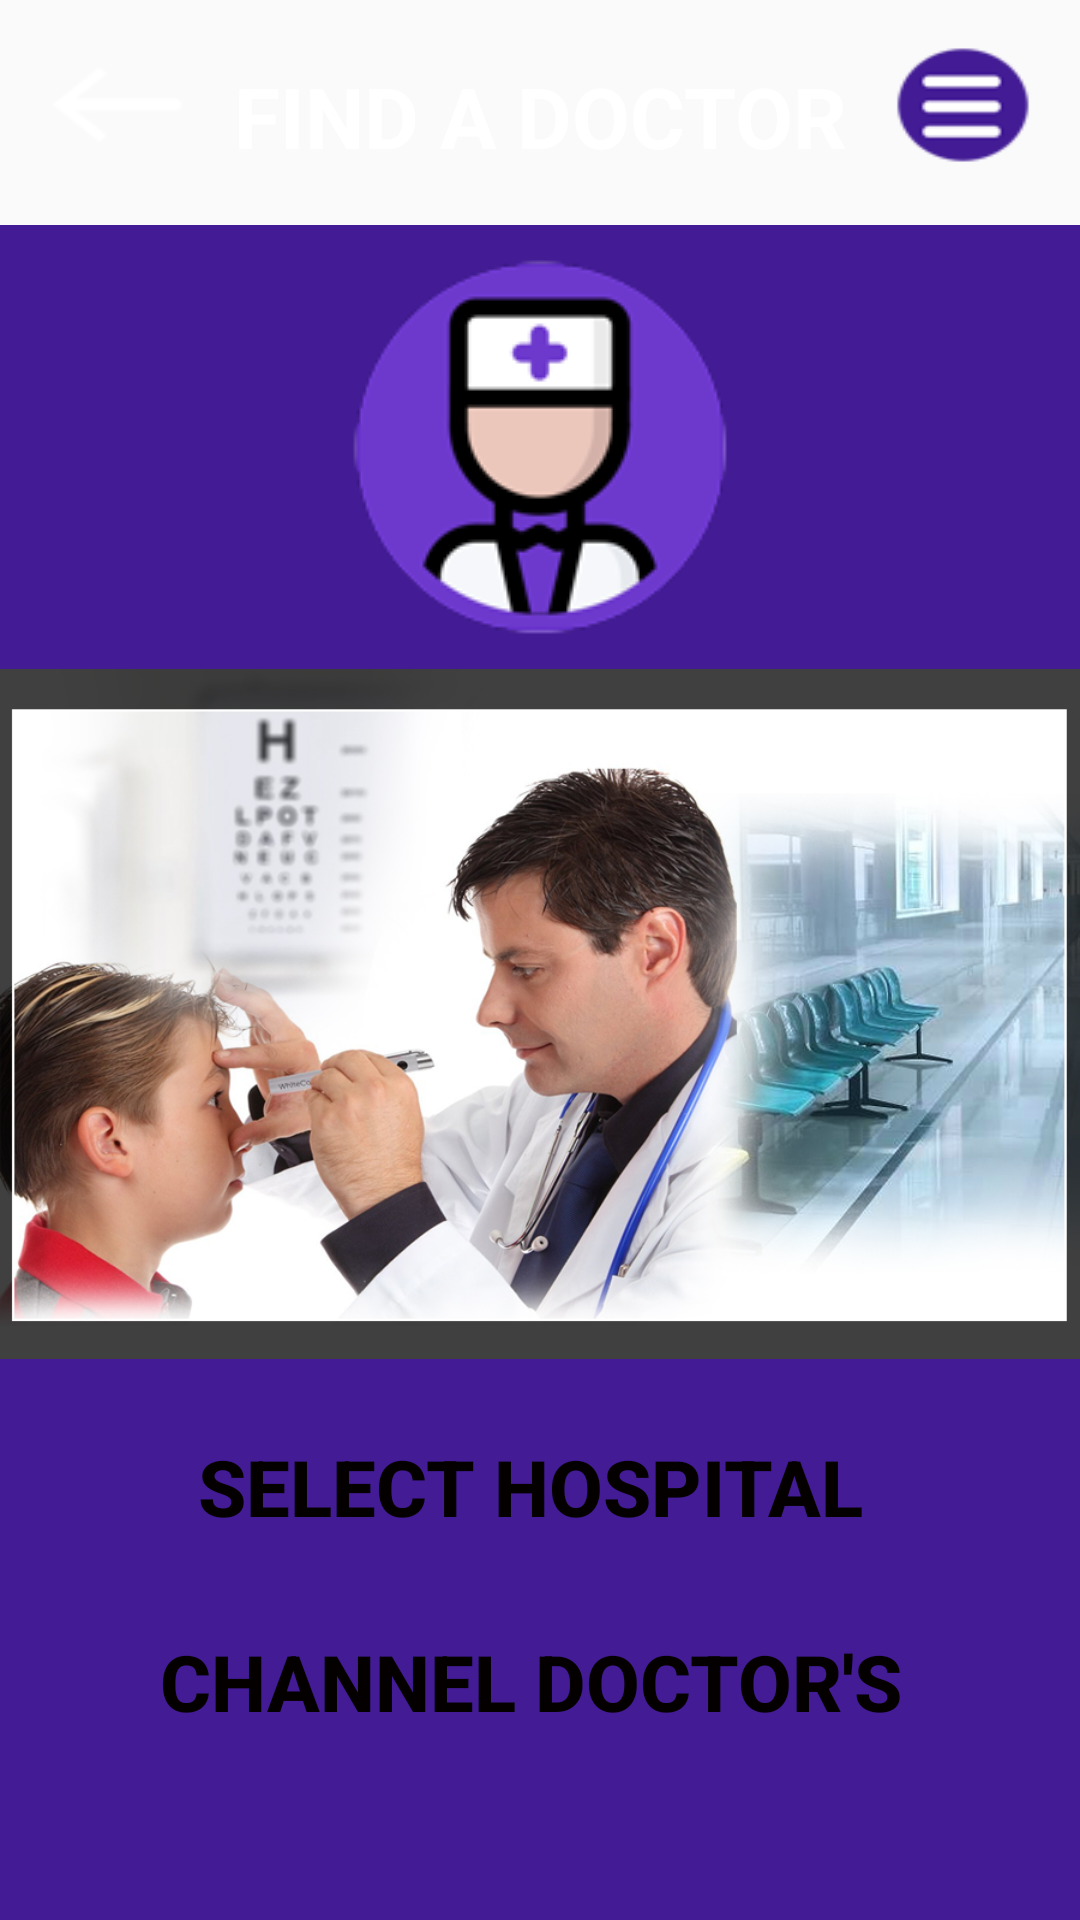

Named icons in this screenshot (1080w x 1920h) and their bounding boxes, (x1, y1, x2, y2):
menu: (897, 48, 1029, 162)
